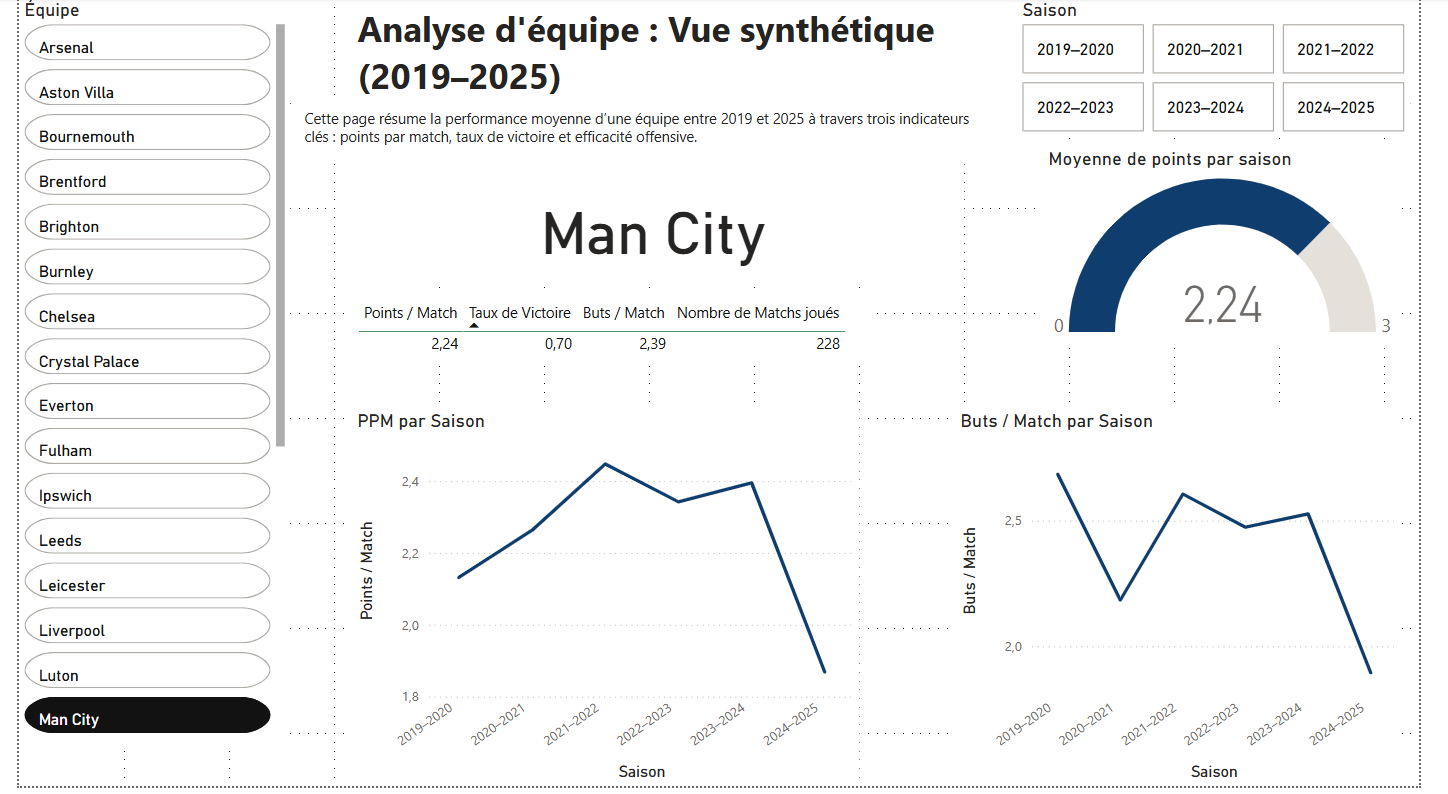

This screenshot's page, from the dashboard's own definition file:
{"tool":"powerbi","page":{"name":"Accueil","canvas":[1280,720],"ordinal":0},"visuals":[{"type":"advancedSlicerVisual","fields":{"Values":["PL23 (2).Saison"]},"box":[912,0,360,128],"z":0},{"type":"gauge","title":"Moyenne de points par saison","fields":{"Y":["PL23 (2).Point_par_match"],"MaxValue":["PL23 (2).ValeurMax"],"MinValue":["PL23 (2).ValeurMin"]},"box":[936,136,328,184],"z":1000},{"type":"lineChart","title":"PPM par Saison","fields":{"Category":["PL23 (2).Saison"],"Y":["PL23 (2).Point_par_match"]},"box":[304,376,464,344],"z":2000},{"type":"advancedSlicerVisual","fields":{"Values":["PL23 (2).Équipe"]},"box":[0,0,248,688],"z":3000},{"type":"textbox","box":[304,0,608,104],"z":4000},{"type":"tableEx","title":"Évolution des points par match","fields":{"Values":["PL23 (2).Point_par_match","PL23 (2).TauxVictoire","PL23 (2).Buts_par_match","PL23 (2).Résultat"]},"box":[304,272,480,64],"z":5000},{"type":"textbox","box":[256,96,640,56],"z":6000},{"type":"card","fields":{"Values":["PL23 (2).ÉquipeSélectionnée"]},"box":[296,152,568,112],"z":6001},{"type":"lineChart","fields":{"Y":["PL23 (2).Buts / Match"],"Category":["PL23 (2).Saison"]},"box":[856,376,408,344],"z":6002}]}

Visuals, with their boxes in screenshot pixels (x1, y1, x2, y2), scaled from the page's 1280x720 canvas onto the 1448x794 screenshot:
advancedSlicerVisual - PL23 (2).Saison: 1032, 0, 1439, 141
"Moyenne de points par saison" gauge: 1059, 150, 1430, 353
"PPM par Saison" lineChart: 344, 415, 869, 793
advancedSlicerVisual - PL23 (2).Équipe: 0, 0, 281, 759
textbox: 344, 0, 1032, 115
"Évolution des points par match" tableEx: 344, 300, 887, 371
textbox: 290, 106, 1014, 168
card - PL23 (2).ÉquipeSélectionnée: 335, 168, 977, 291
lineChart - PL23 (2).Buts / Match x PL23 (2).Saison: 968, 415, 1430, 793
